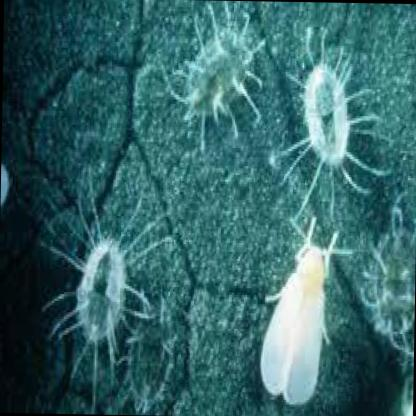whitefly: (262, 241, 325, 404)
